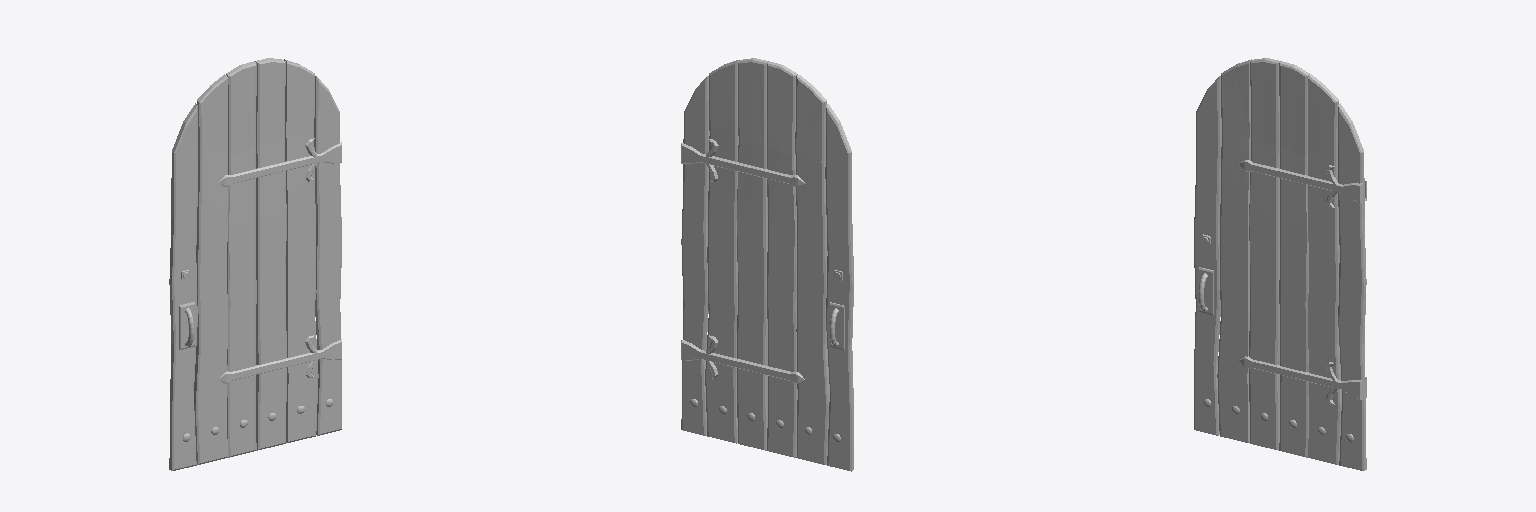
The model's file is puerta_der.obj.
3 renders of one model, left to right at view 1: azimuth 30°, elevation 25°; view 2: azimuth 150°, elevation 25°; view 3: azimuth 330°, elevation 25°, orthographic.
Visible parts, largest first — view 1: Puerta_Material.013; view 2: Puerta_Material.013; view 3: Puerta_Material.013.
Boxes of the visible parts, x1=… form: Puerta_Material.013: x1=169, y1=58, x2=341, y2=470; Puerta_Material.013: x1=681, y1=58, x2=853, y2=471; Puerta_Material.013: x1=1194, y1=58, x2=1366, y2=470.
Size of the model in its own units: 3.78 by 8.23 by 0.6525.